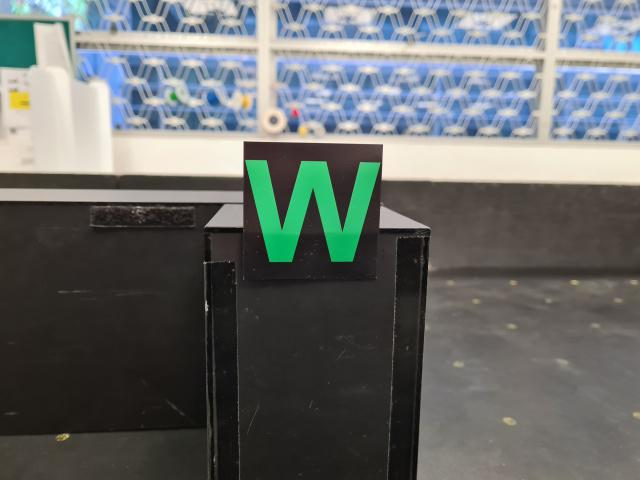w: (241, 139, 384, 281)
